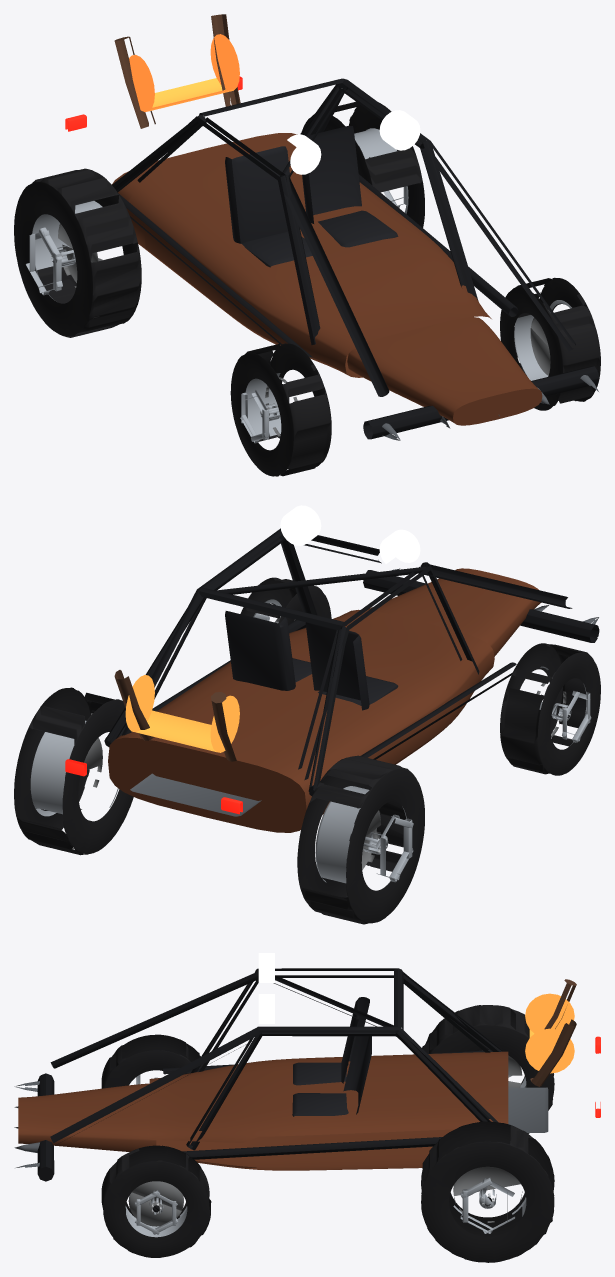
Rendered from raider-buggy.glb.
3 views of the same model, one above another, from view 1: azimuth 30°, elevation 25°; view 2: azimuth 150°, elevation 25°; view 3: azimuth 270°, elevation 25° (orthographic). The views are drawn at different scales.
Parts seen in each view (by area): view 1: Body, WheelRL, WheelFL, WheelFR, WheelRR; view 2: Body, WheelRL, WheelRR, WheelFL, WheelFR; view 3: Body, WheelRR, WheelFR, WheelRL, WheelFL.
Part boxes in pixels (x1,y1,x2,y2): Body: (65, 14, 599, 440); WheelRL: (14, 168, 141, 337); WheelFL: (230, 343, 331, 476); WheelFR: (500, 277, 600, 410); WheelRR: (301, 101, 424, 227); Body: (65, 505, 599, 832); WheelRL: (297, 755, 424, 924); WheelRR: (14, 687, 133, 855); WheelFL: (500, 643, 600, 775); WheelFR: (240, 577, 331, 628); Body: (14, 953, 600, 1181); WheelRR: (421, 1121, 554, 1262); WheelFR: (101, 1145, 211, 1257); WheelRL: (422, 1005, 554, 1133); WheelFL: (101, 1034, 203, 1088).
Size of the model in its own units: 2.52 by 1.77 by 4.25.
